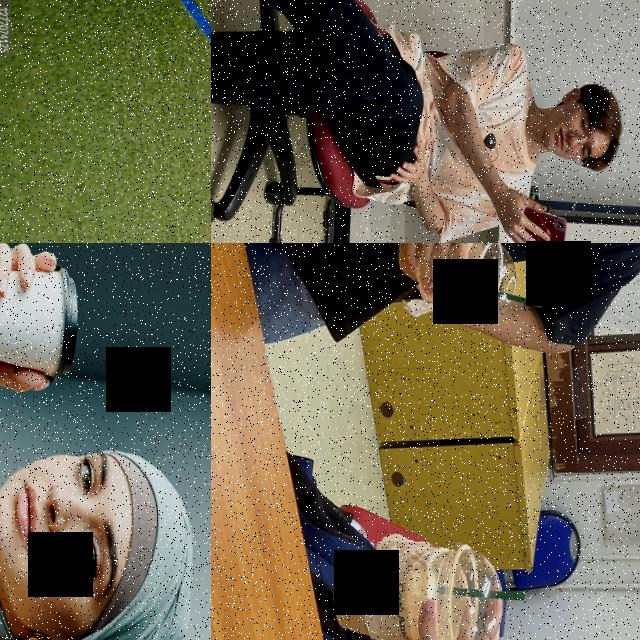cup: (331, 542, 501, 640), (0, 264, 78, 386), (397, 243, 517, 319)
